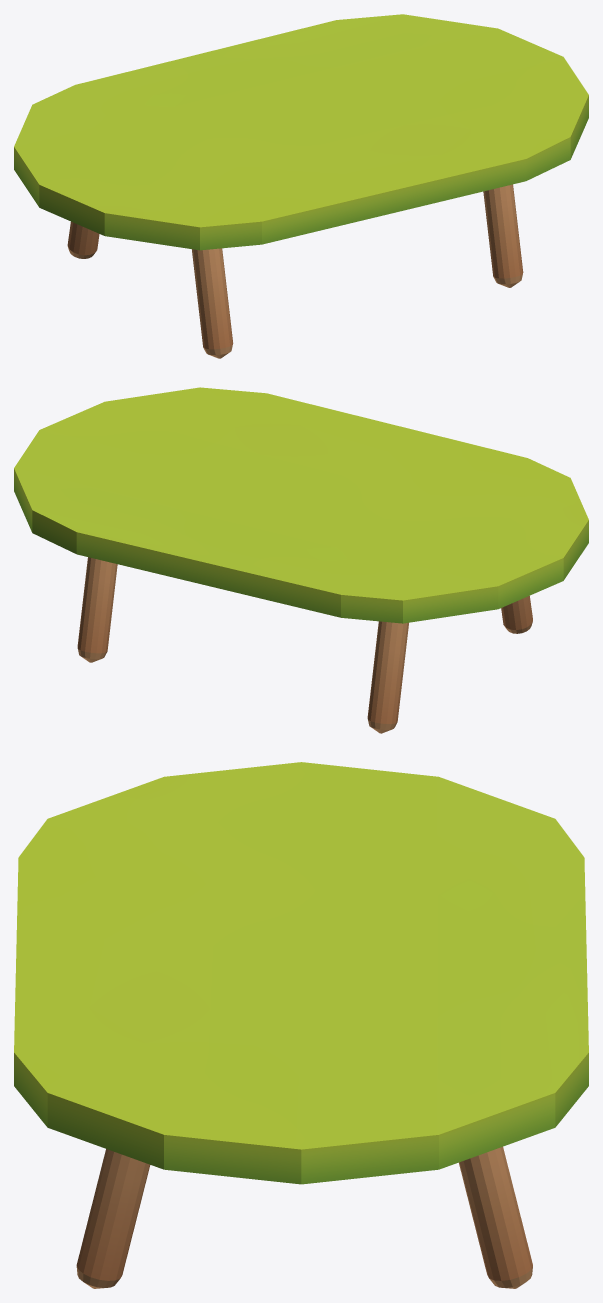
Rendered from CoffeeTable.glb.
The picture shows the model from 3 angles, top to bottom: view 1: azimuth 30°, elevation 25°; view 2: azimuth 150°, elevation 25°; view 3: azimuth 270°, elevation 25°; orthographic projection. The views are drawn at different scales.
Visible parts, largest first — view 1: CoffeeTable; view 2: CoffeeTable; view 3: CoffeeTable.
Part boxes in pixels (x1,y1,x2,y2): CoffeeTable: (14,14,588,358); CoffeeTable: (14,387,588,733); CoffeeTable: (14,762,588,1288).
Size of the model in its own units: 0.8416 by 0.2319 by 0.5278.
Materials: 1 (1 with a texture image).
